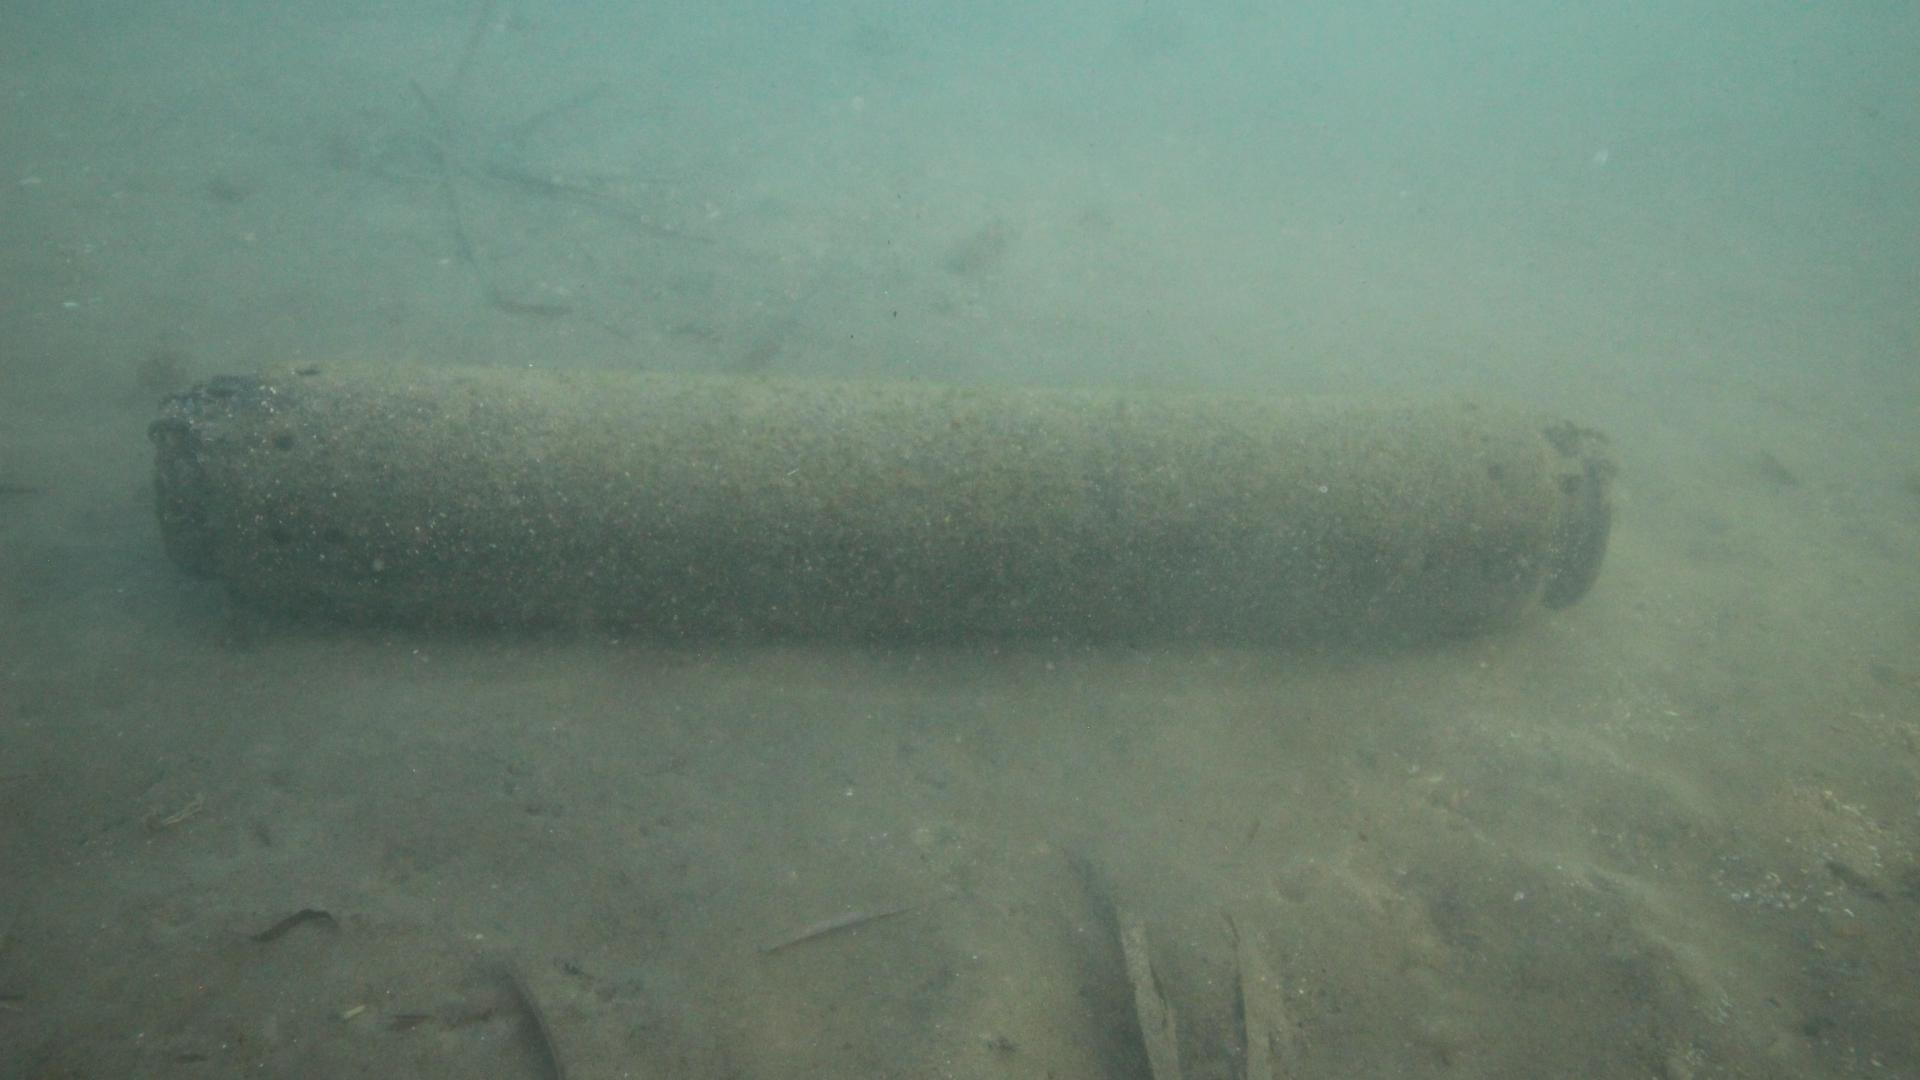eel fish trap: (146, 363, 1619, 626)
